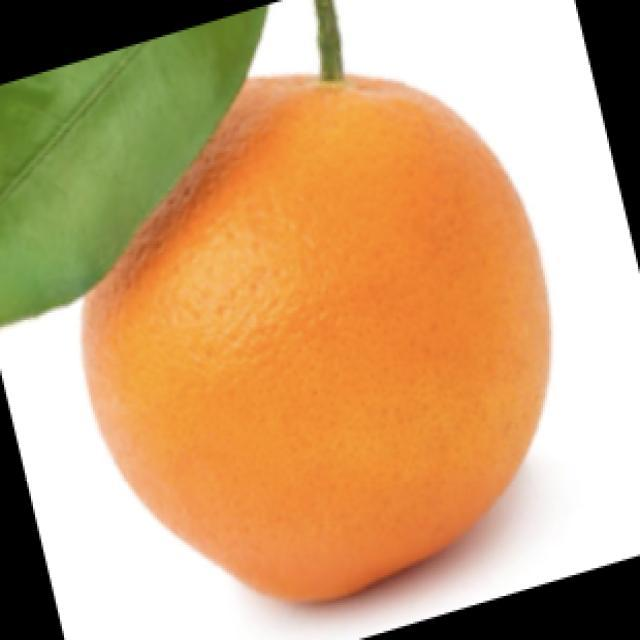matang: (83, 75, 549, 600)
